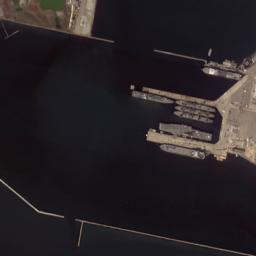boat: (159, 143, 205, 159), (200, 66, 240, 80), (132, 90, 174, 103), (175, 99, 215, 112), (174, 104, 214, 116), (173, 110, 213, 122)
